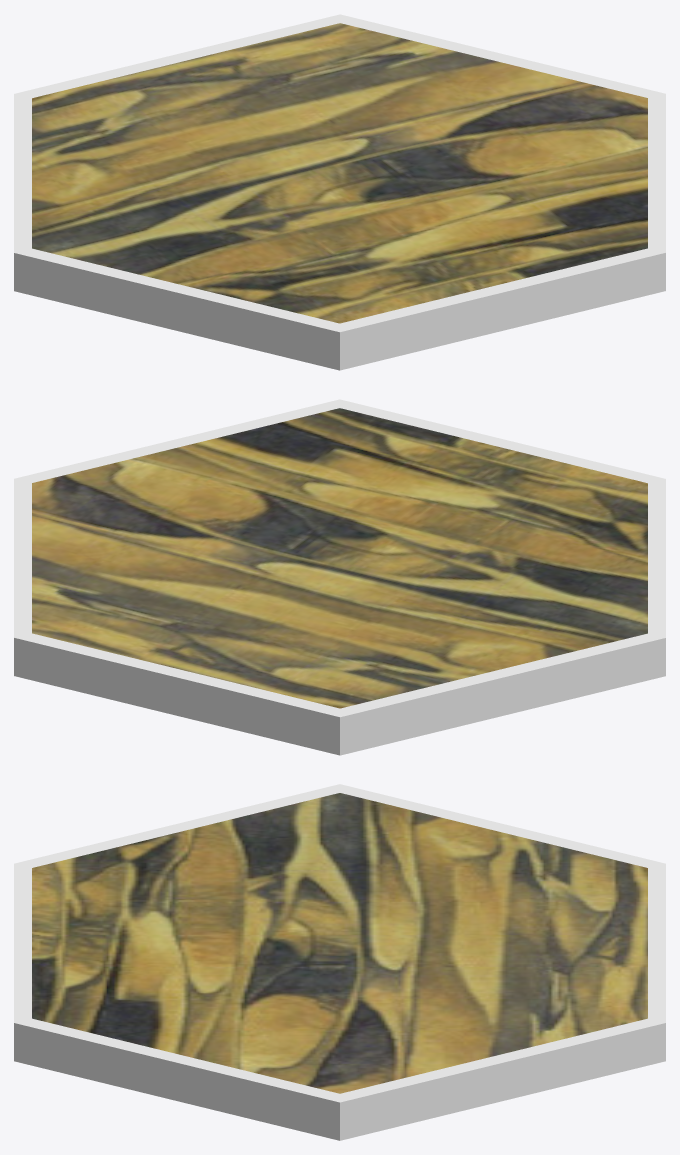
File: hex_desert.glb
3 renders of one model, top to bottom at view 1: azimuth 30°, elevation 25°; view 2: azimuth 150°, elevation 25°; view 3: azimuth 270°, elevation 25°, orthographic.
Parts seen in each view (by area): view 1: hex_desert; view 2: hex_desert; view 3: hex_desert.
Part boxes in pixels (x1=…): hex_desert: x1=14, y1=14, x2=665, y2=370; hex_desert: x1=14, y1=399, x2=665, y2=755; hex_desert: x1=14, y1=784, x2=665, y2=1140.
Size of the model in its own units: 0.089 by 0.005 by 0.077.
2 materials, 1 textured.
